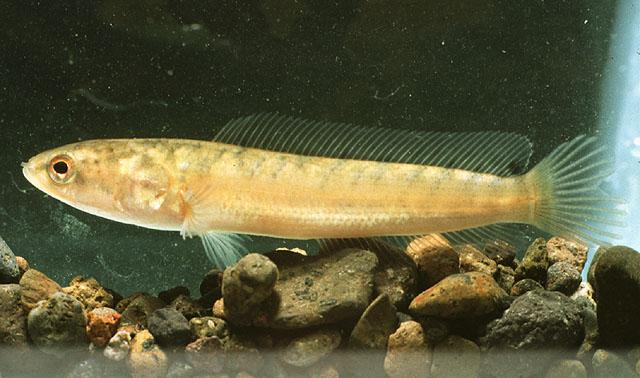Mulut: (7, 136, 78, 208)
Sirip Anal: (310, 216, 536, 272)
Sirip Dada: (161, 169, 227, 254)
Sirip Ekor: (511, 122, 637, 266)
Sirip Perut: (188, 216, 266, 288)
Sirip Punggung: (202, 102, 542, 185)
